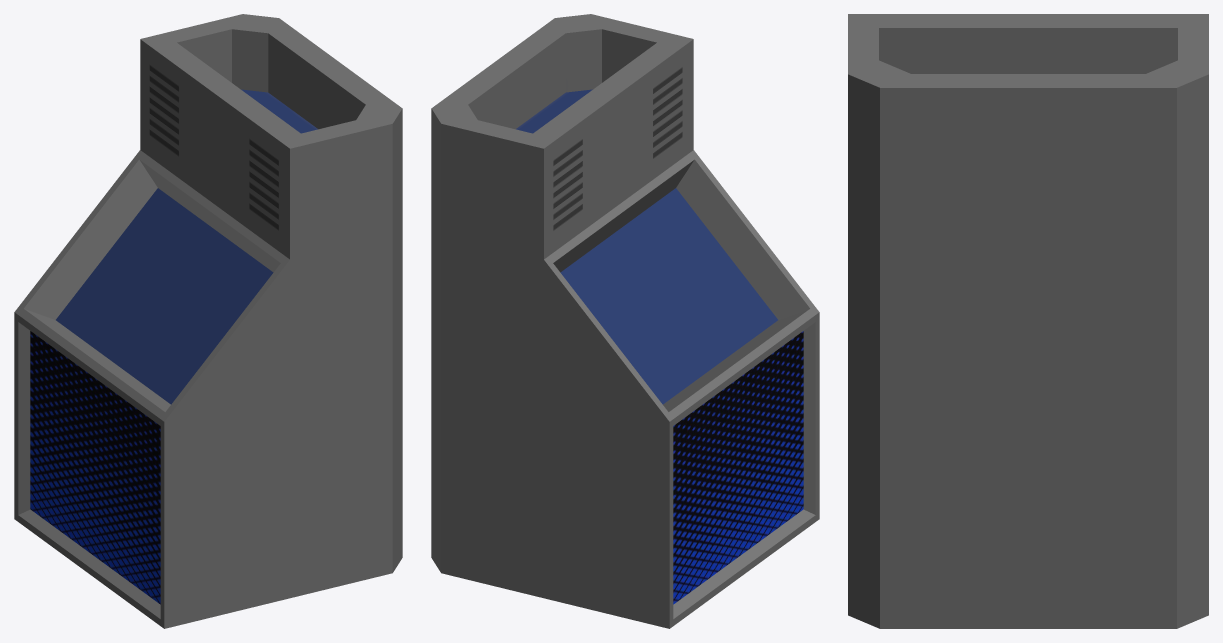
The picture shows the model from 3 angles, left to right: view 1: azimuth 30°, elevation 25°; view 2: azimuth 150°, elevation 25°; view 3: azimuth 270°, elevation 25°; orthographic projection. The views are drawn at different scales.
Visible parts, largest first — view 1: SM_B_Part26; view 2: SM_B_Part26; view 3: SM_B_Part26.
Part boxes in pixels (left/top/right/bottom): SM_B_Part26: left=14, top=14, right=402, bottom=628; SM_B_Part26: left=431, top=14, right=819, bottom=628; SM_B_Part26: left=848, top=14, right=1208, bottom=628.
Bounding box in the file's own units: 181 × 187 × 310.
